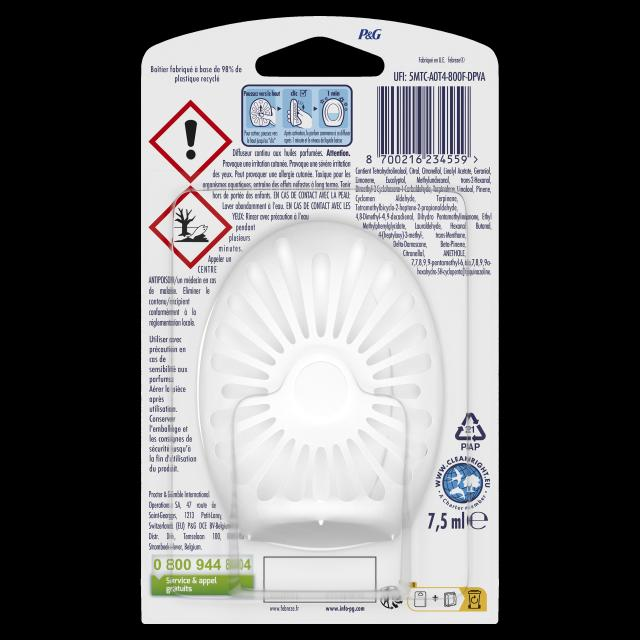GHS_Symbol_ENVIRONMENT: (150, 186, 232, 269)
GHS_Symbol_EXCLAMATION_MARK: (148, 100, 232, 182)
